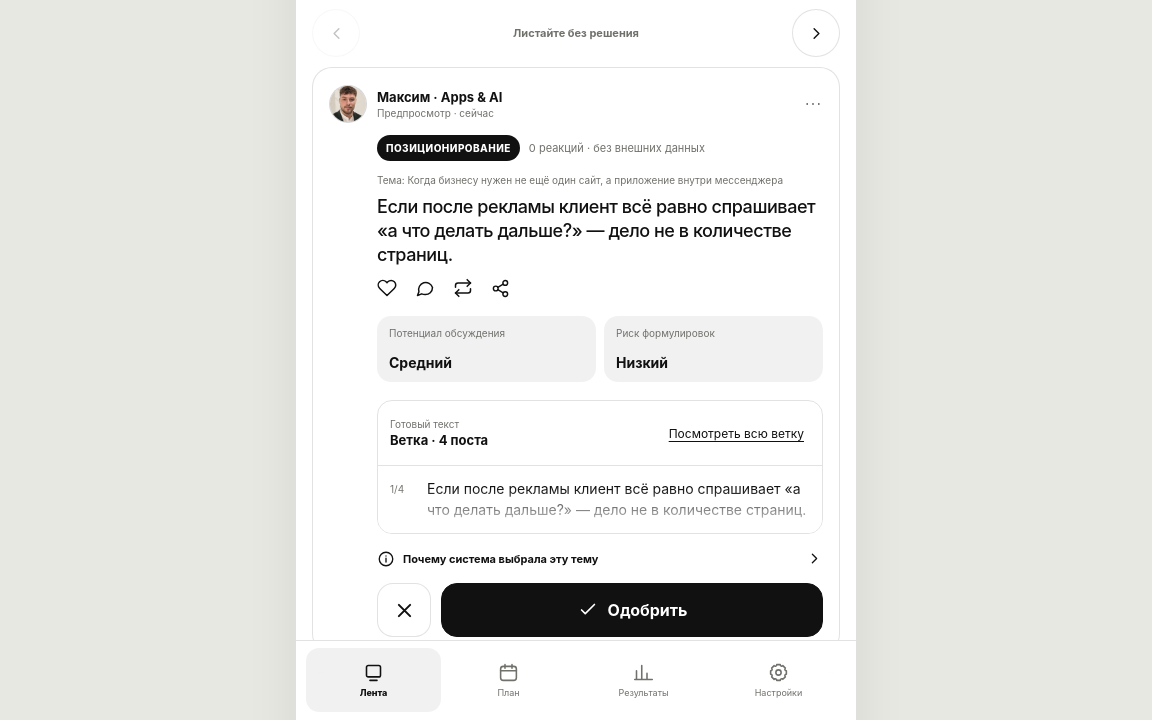
touch interactions in the approval feed › recognizes a fast horizontal swipe even before the next animation frame
(page scrolled)
Press the mouse on the element with class "topic-card": (576, 361) x1=312 y1=67 x2=840 y2=654
Wait 230 ms
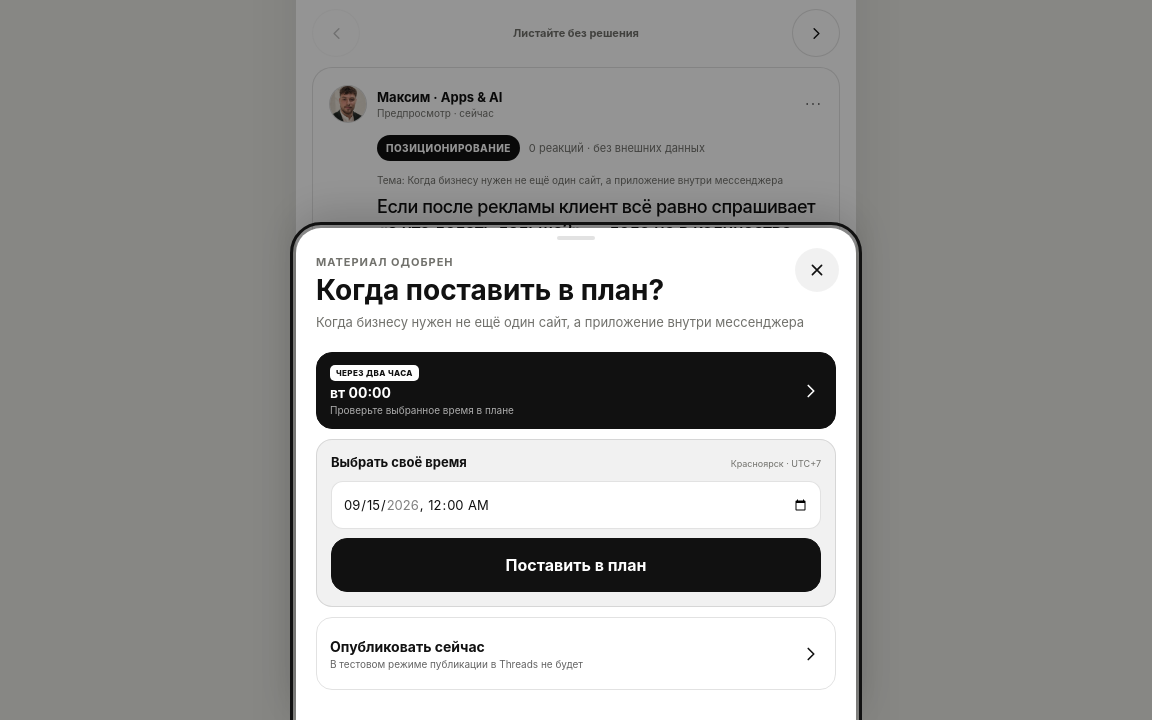
expect the dialog shows "Когда поставить в план?": met, box x1=316 y1=273 x2=664 y2=307
